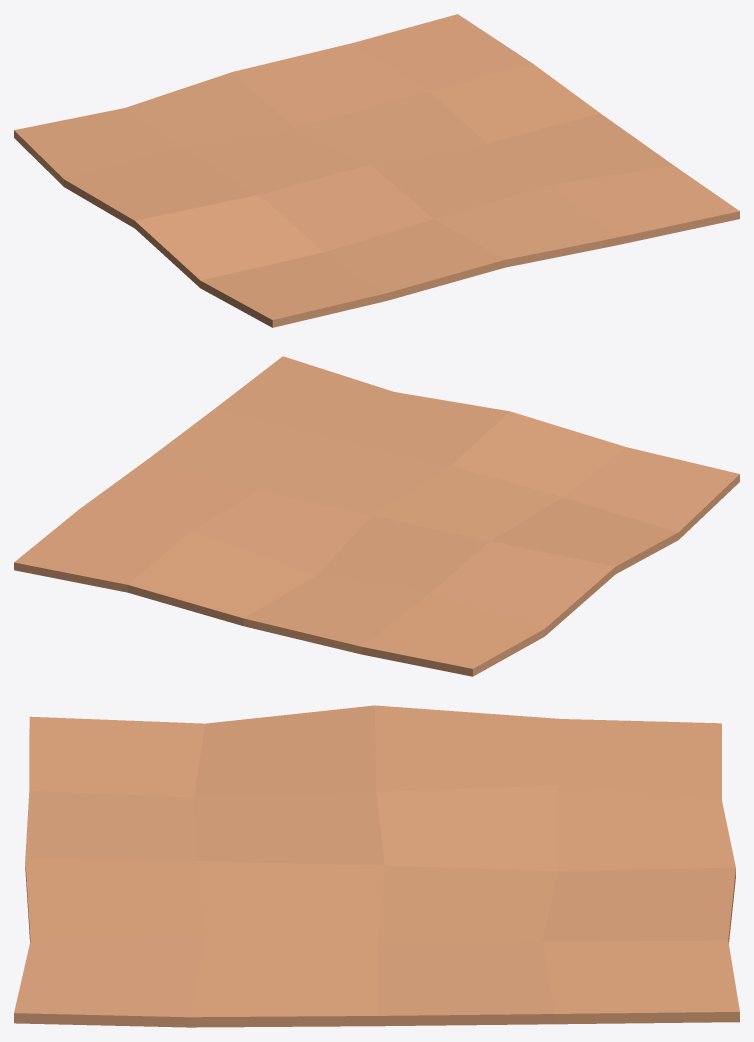
Rendered from map.gltf.
3 views of the same model, one above another, from view 1: azimuth 30°, elevation 25°; view 2: azimuth 150°, elevation 25°; view 3: azimuth 270°, elevation 25° (orthographic). The views are drawn at different scales.
Parts seen in each view (by area): view 1: Plane; view 2: Plane; view 3: Plane.
Part boxes in pixels (box(x1,y1,x2,y2)): Plane: box(14, 14, 739, 327); Plane: box(14, 356, 739, 676); Plane: box(14, 705, 739, 1027).
Size of the model in its own units: 0.2544 by 0.0114 by 0.2586.
